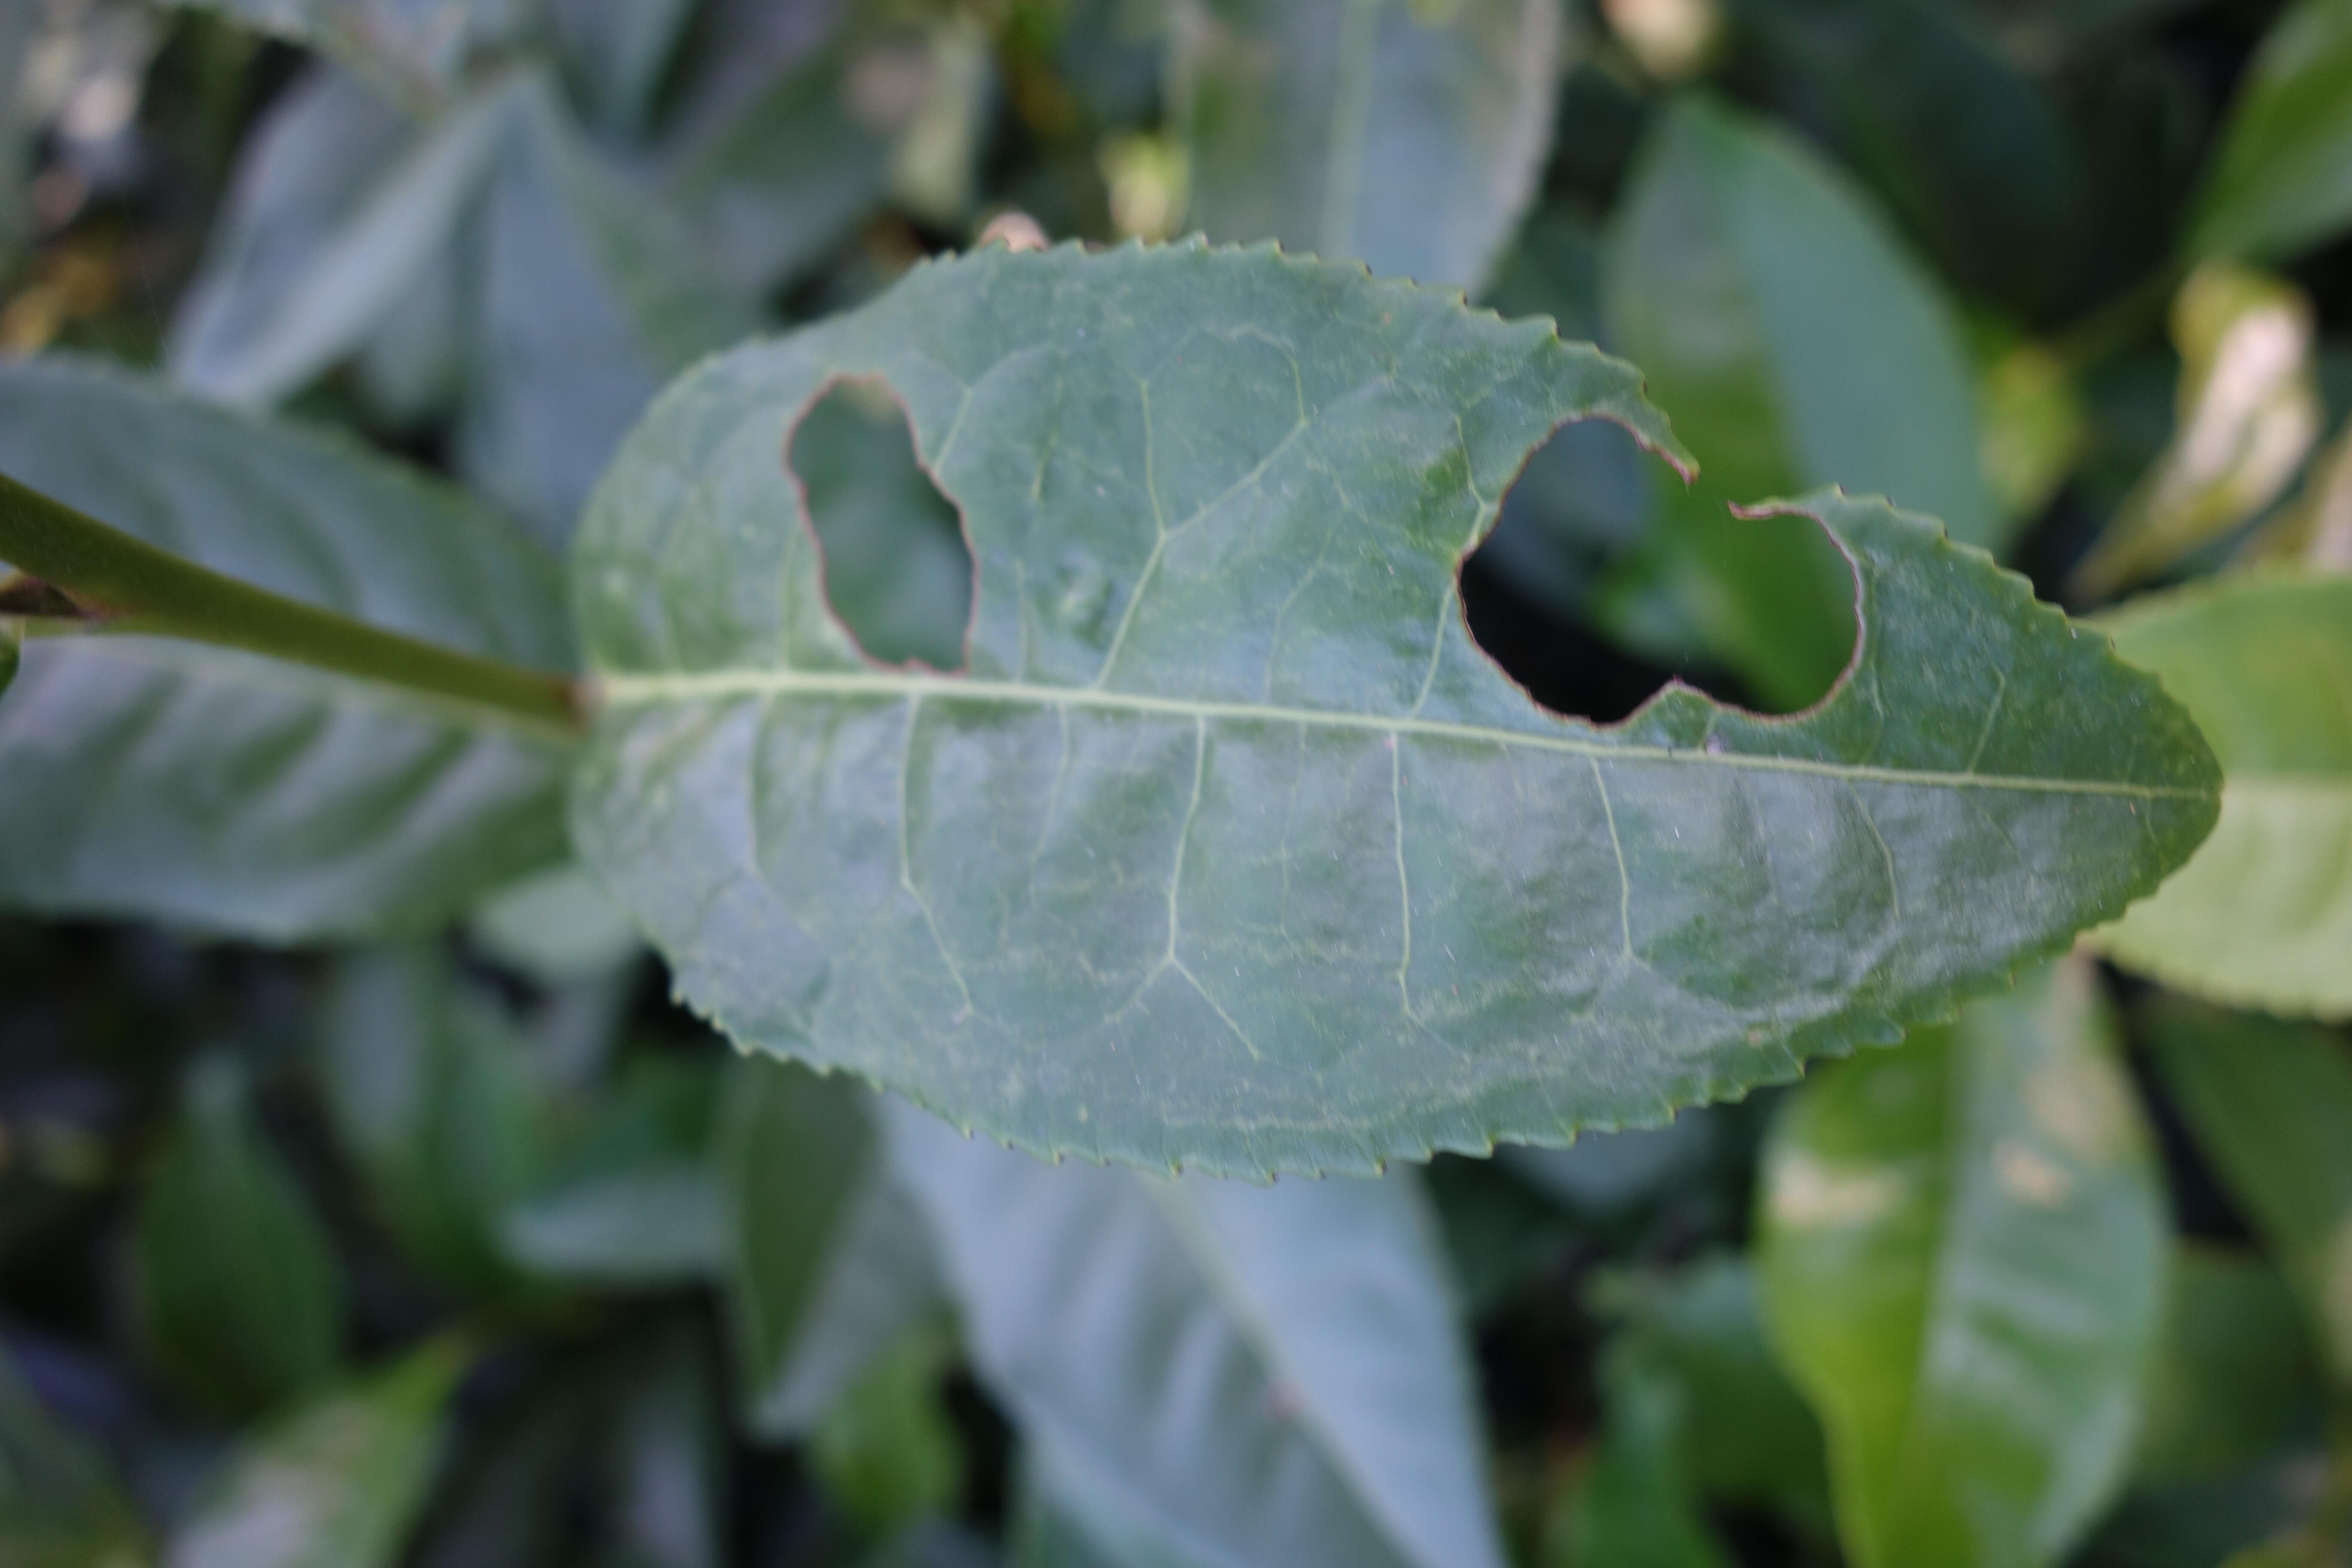chihuo_high: (565, 233, 2226, 1188)
